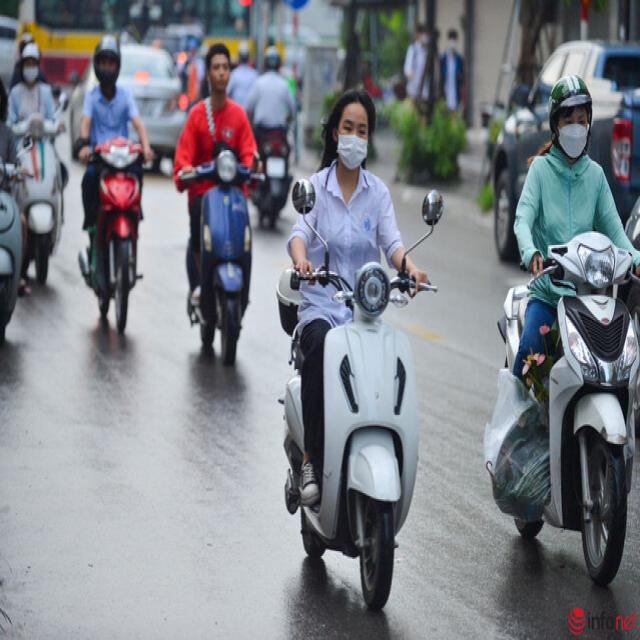helmet: (546, 66, 596, 126)
no_helmet: (315, 70, 389, 184)
